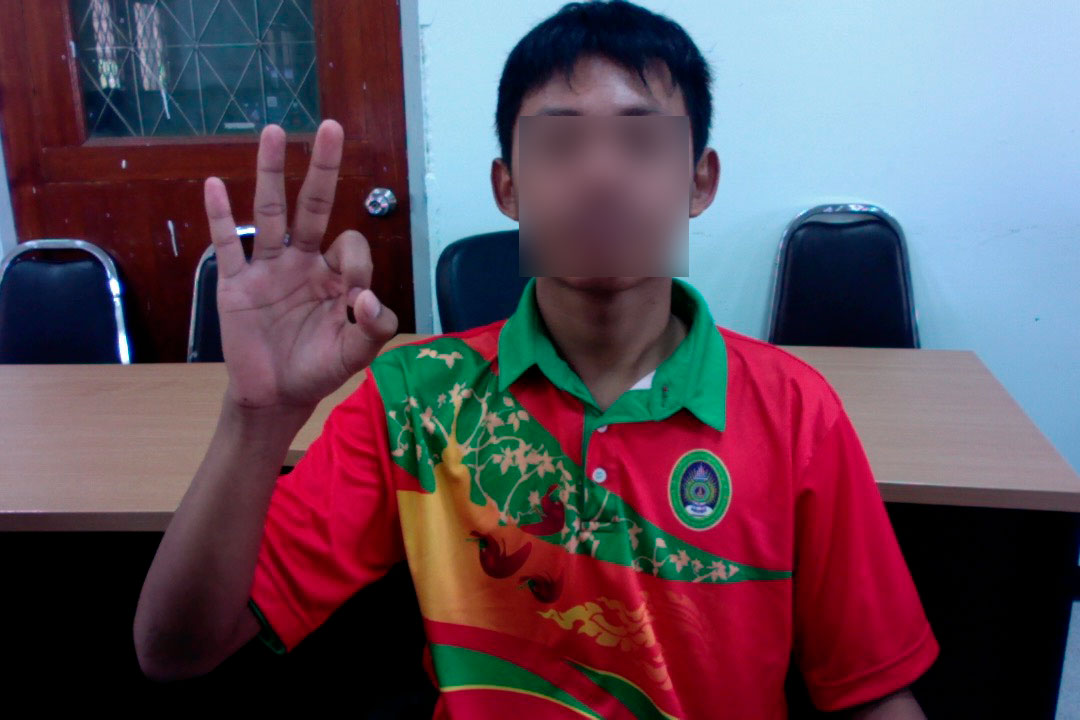for: (192, 100, 407, 439)
